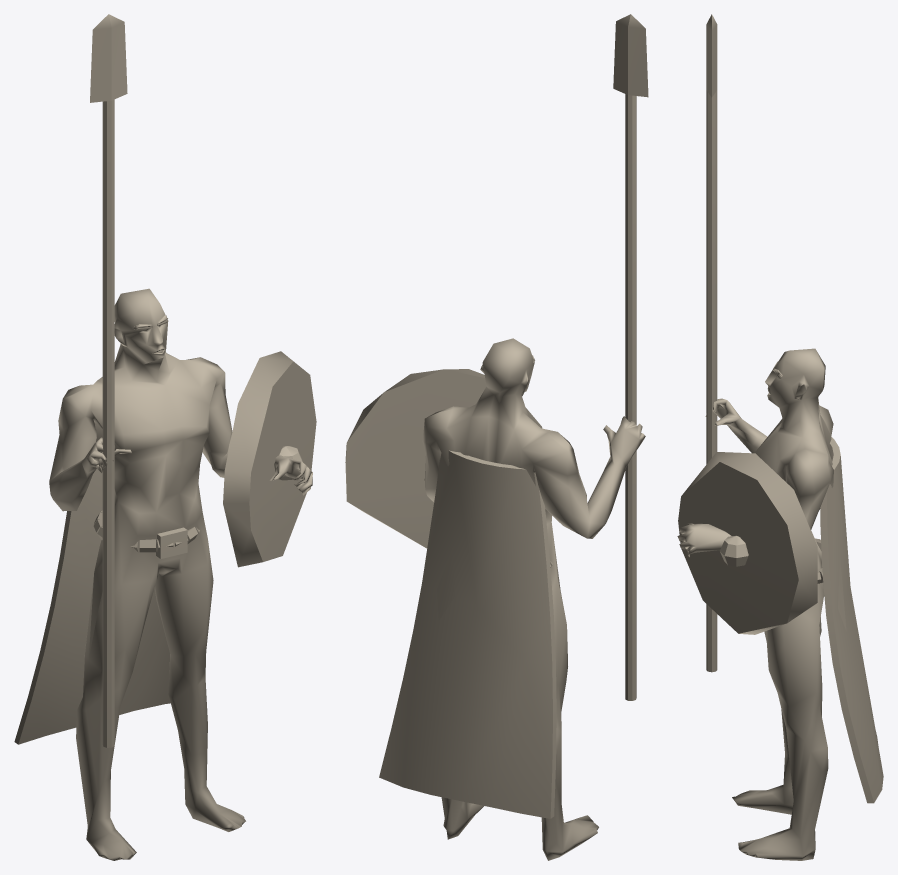
The model's file is hero_e1.glb.
The picture shows the model from 3 angles, left to right: view 1: azimuth 30°, elevation 25°; view 2: azimuth 150°, elevation 25°; view 3: azimuth 270°, elevation 25°; orthographic projection. The views are drawn at different scales.
Parts seen in each view (by area): view 1: HERO_E12; view 2: HERO_E12; view 3: HERO_E12.
Part boxes in pixels (box(x1,y1,x2,y2)): HERO_E12: box(14, 14, 316, 860); HERO_E12: box(345, 14, 648, 860); HERO_E12: box(677, 14, 883, 860).
Size of the model in its own units: 1.76 by 5.35 by 1.28.
